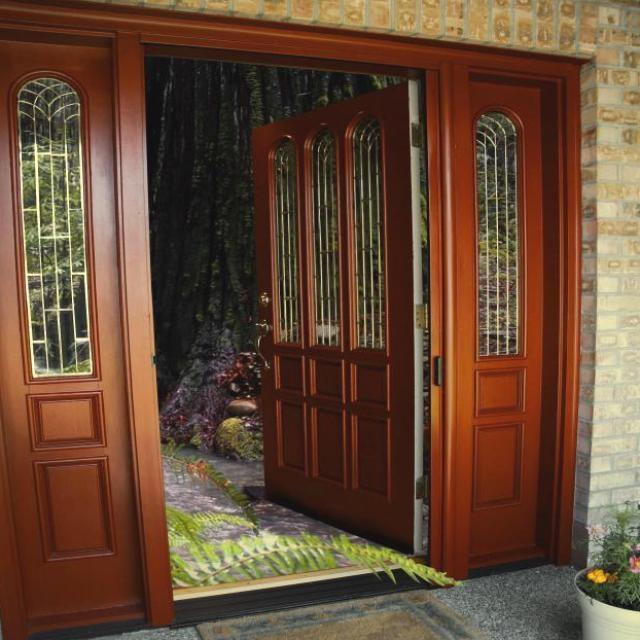door: (250, 79, 417, 554)
